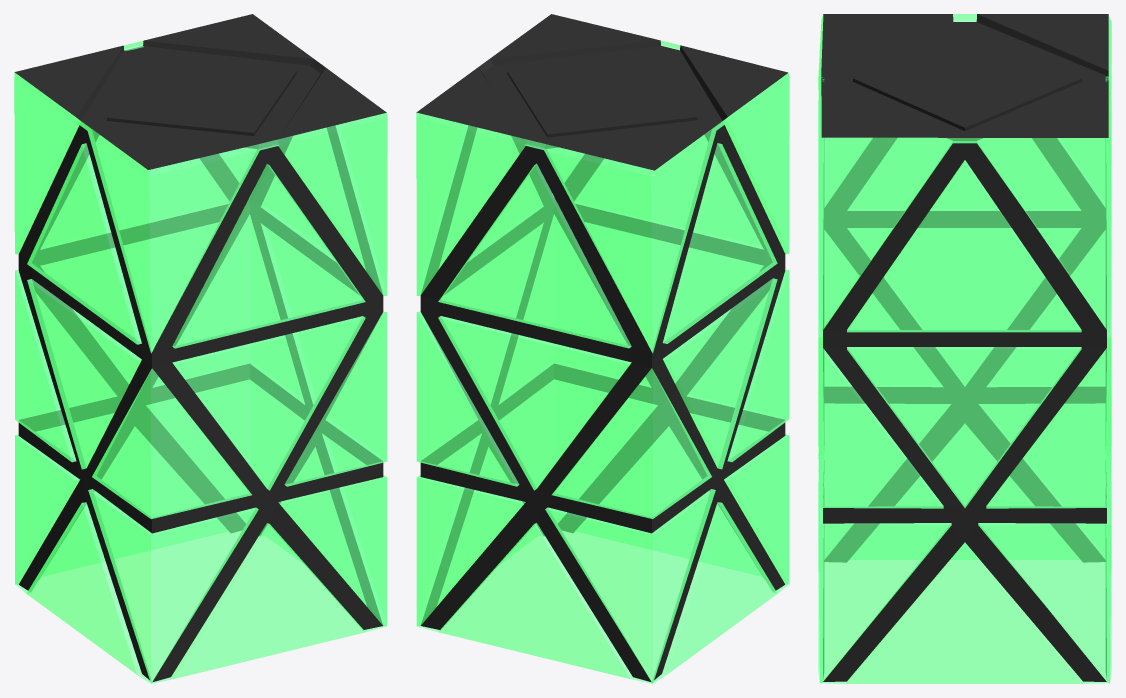
File: greenGlassBuilding.fbx
3 views of the same model, side by side, from view 1: azimuth 30°, elevation 25°; view 2: azimuth 150°, elevation 25°; view 3: azimuth 270°, elevation 25° (orthographic). The views are drawn at different scales.
Visible parts, largest first — view 1: greenGlassBuilding; view 2: greenGlassBuilding; view 3: greenGlassBuilding.
Part boxes in pixels (left/top/right/bottom): greenGlassBuilding: left=14, top=14, right=387, bottom=683; greenGlassBuilding: left=416, top=14, right=789, bottom=683; greenGlassBuilding: left=818, top=14, right=1111, bottom=683.
Size of the model in its own units: 1553 by 3192 by 1552.
